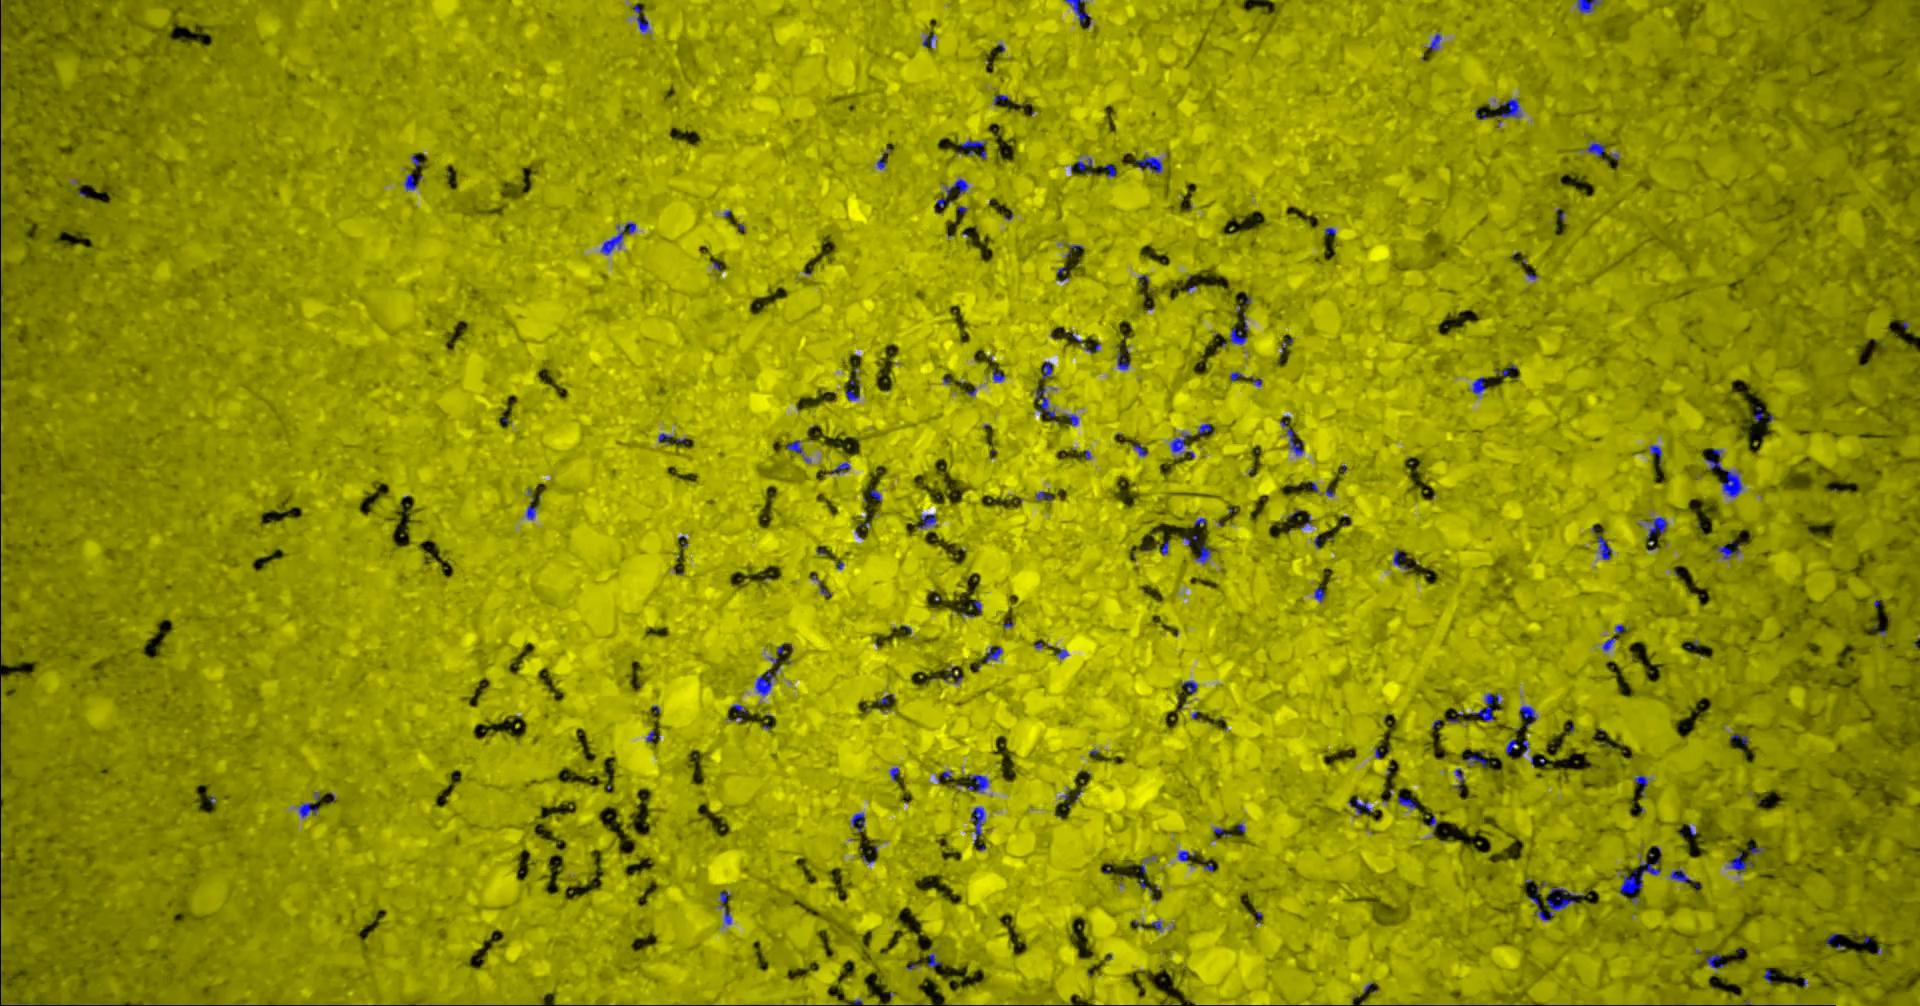ant: (1529, 887, 1586, 920), (1622, 861, 1662, 899), (1705, 459, 1743, 495), (602, 222, 637, 254), (1470, 694, 1500, 721), (1647, 517, 1669, 550), (1497, 98, 1523, 122), (1037, 385, 1057, 417), (1065, 0, 1090, 23), (963, 138, 988, 159), (971, 807, 985, 843), (1288, 427, 1305, 455), (632, 4, 650, 30), (1137, 156, 1164, 173), (847, 367, 861, 400), (757, 671, 776, 695), (1462, 749, 1488, 766), (1730, 851, 1752, 870), (1717, 541, 1741, 559), (947, 178, 970, 196), (1671, 869, 1697, 884), (969, 774, 990, 791), (1350, 796, 1371, 814), (721, 890, 733, 923), (1172, 434, 1192, 452), (1521, 705, 1538, 727), (1230, 326, 1250, 344), (1599, 535, 1613, 559), (1196, 541, 1211, 563), (300, 801, 320, 817), (406, 173, 423, 191), (987, 647, 1004, 663), (1396, 549, 1410, 569), (1589, 141, 1606, 156), (1707, 953, 1724, 968), (1117, 351, 1131, 370), (919, 514, 938, 528), (1578, 0, 1601, 11), (1651, 445, 1663, 465), (1399, 795, 1418, 808), (853, 812, 866, 831), (1078, 158, 1093, 173), (787, 439, 804, 453), (1178, 850, 1197, 861), (1183, 680, 1199, 694), (928, 953, 943, 967), (1430, 33, 1443, 50), (1474, 376, 1487, 392), (1043, 361, 1054, 379), (1103, 163, 1117, 177), (1636, 775, 1650, 788), (834, 462, 851, 473), (528, 503, 538, 520), (1316, 586, 1326, 601), (994, 368, 1006, 381), (1037, 492, 1053, 500)
